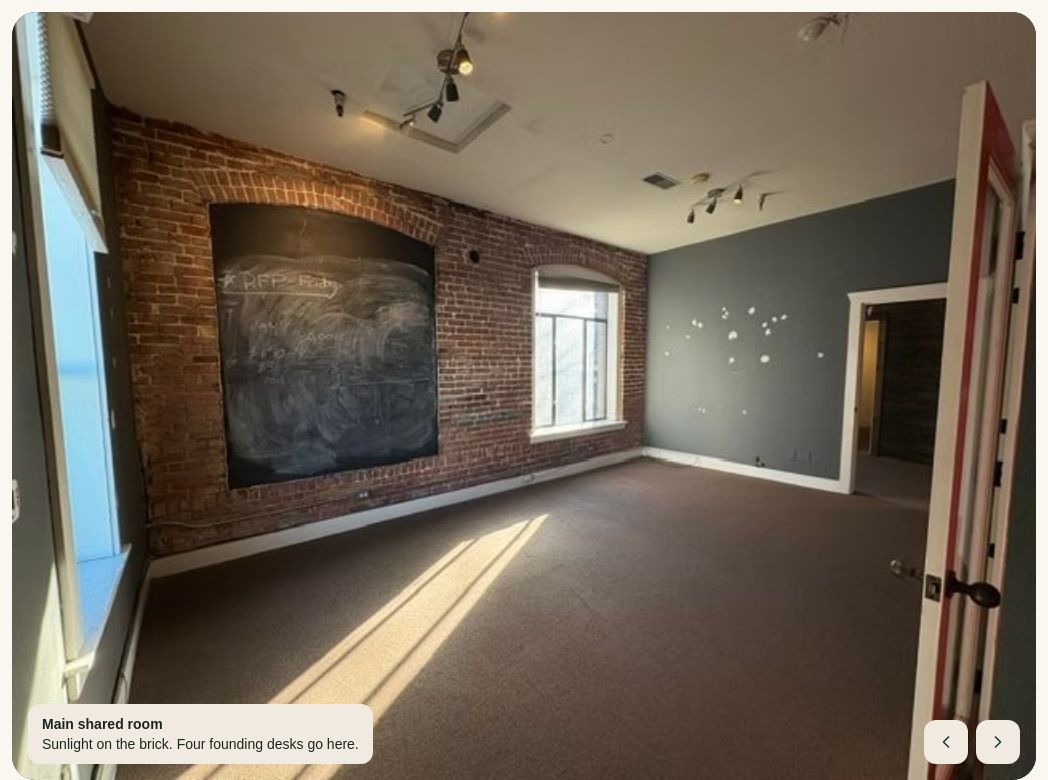
Test: HeroCarousel › starts on the first photo and steps forward and back
This screenshot has width=1048, height=780.
Expected: the text "Main shared room" is shown, [42,716,163,732]
Click the button named "Next photo": (998, 742) [976,720,1020,764]
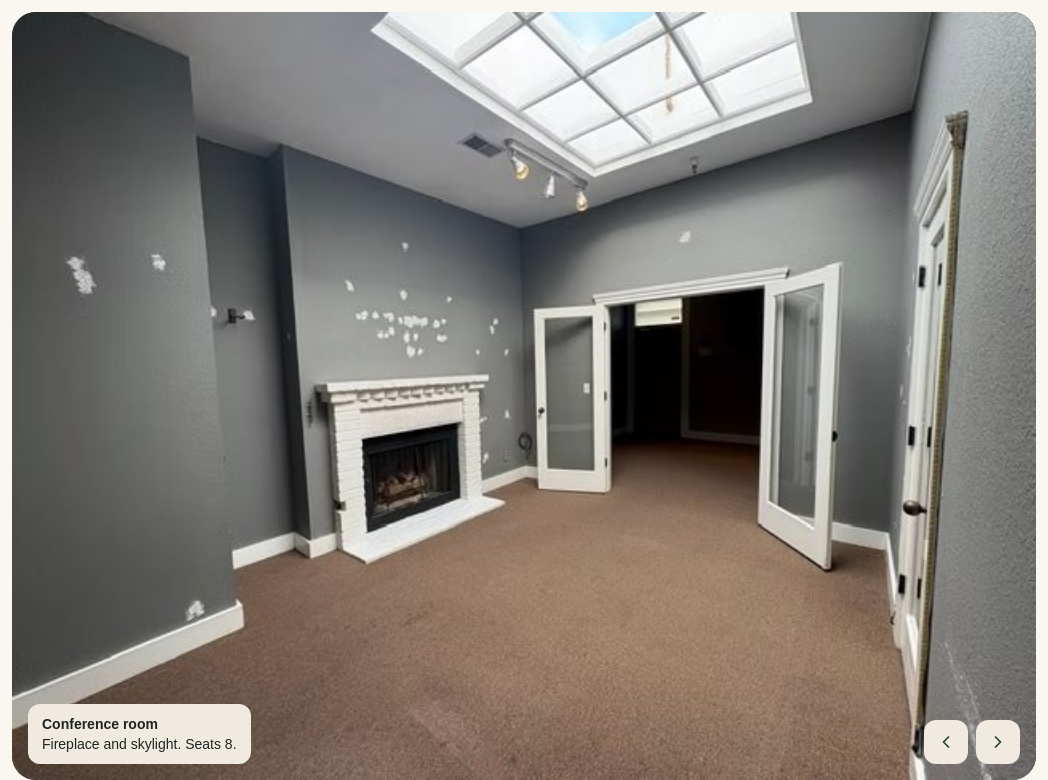
Result: the text "Conference room" is shown at [42,716,158,732]
Click the button named "Previous photo": (946, 742) [924,720,968,764]
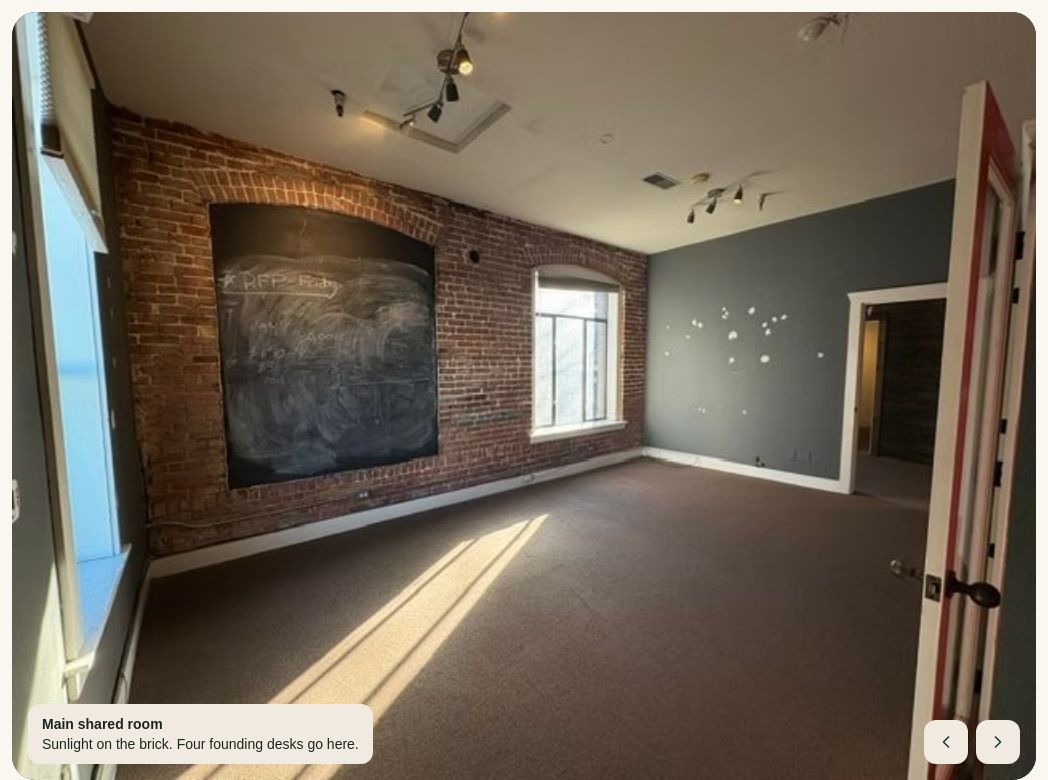
Click the button named "Previous photo": (946, 742) [924,720,968,764]
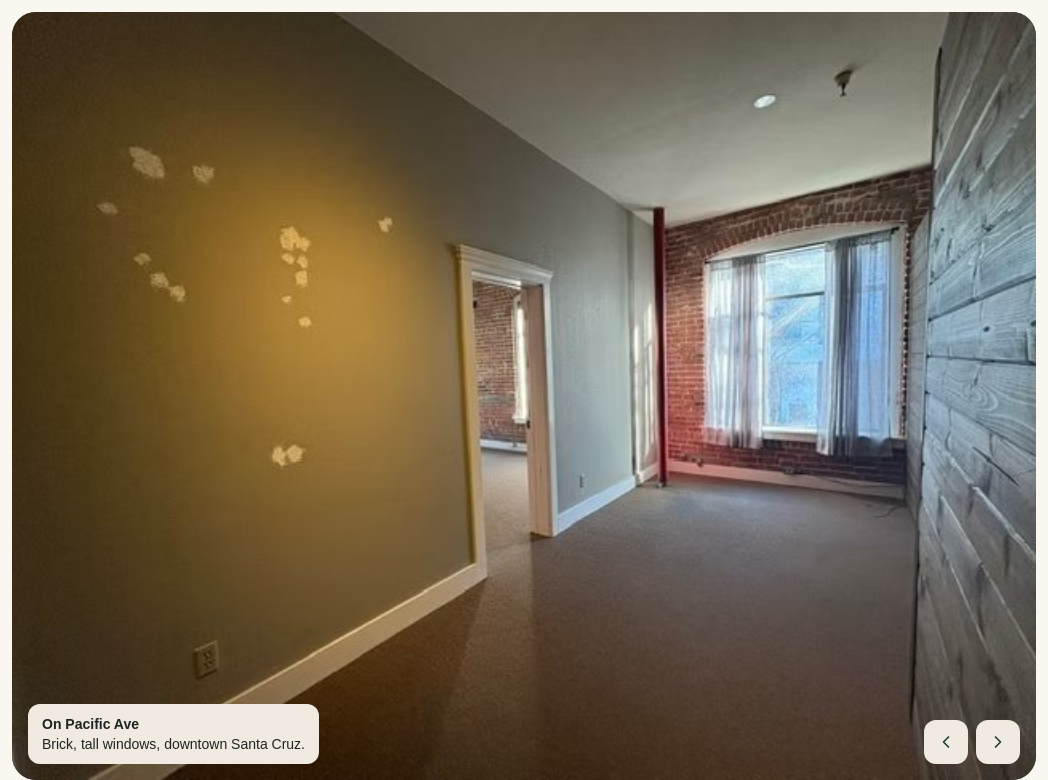
Result: the text "On Pacific Ave" is shown at [42,716,139,732]
